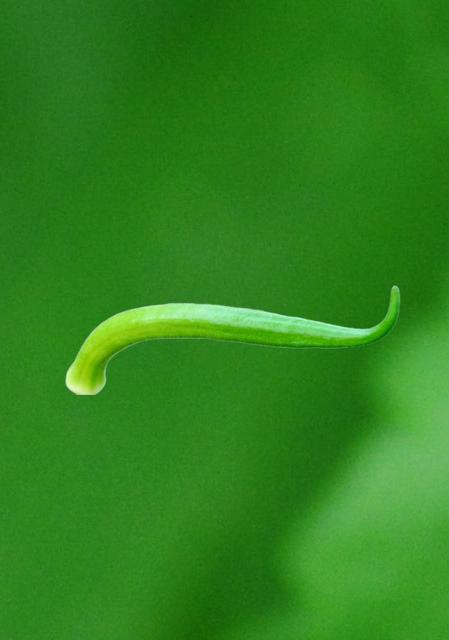okra: (65, 285, 399, 393)
